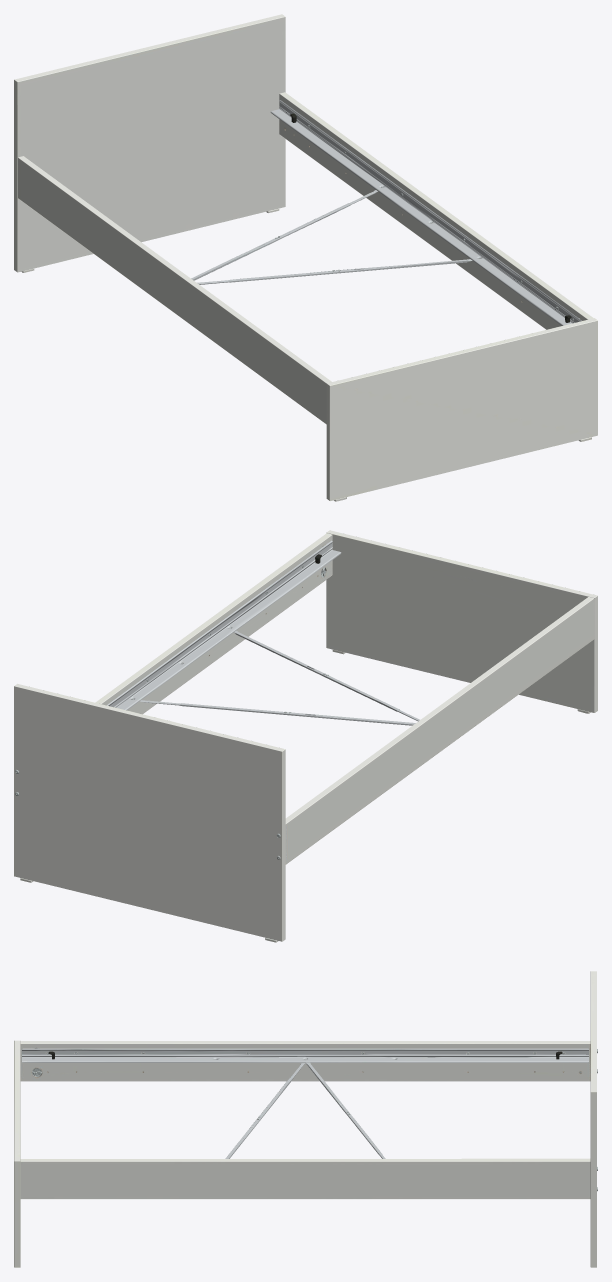
3 views of the same model, one above another, from view 1: azimuth 30°, elevation 25°; view 2: azimuth 150°, elevation 25°; view 3: azimuth 270°, elevation 25° (orthographic). The views are drawn at different scales.
Visible parts, largest first — view 1: 30602429-VIHALS001; view 2: 30602429-VIHALS001; view 3: 30602429-VIHALS001.
Part boxes in pixels (x1,y1,x2,y2): 30602429-VIHALS001: [14, 14, 597, 501]; 30602429-VIHALS001: [14, 530, 597, 942]; 30602429-VIHALS001: [14, 971, 597, 1267].
Size of the model in its own units: 0.9587 by 0.6576 by 1.96.
Materials: 1 (1 with a texture image).
